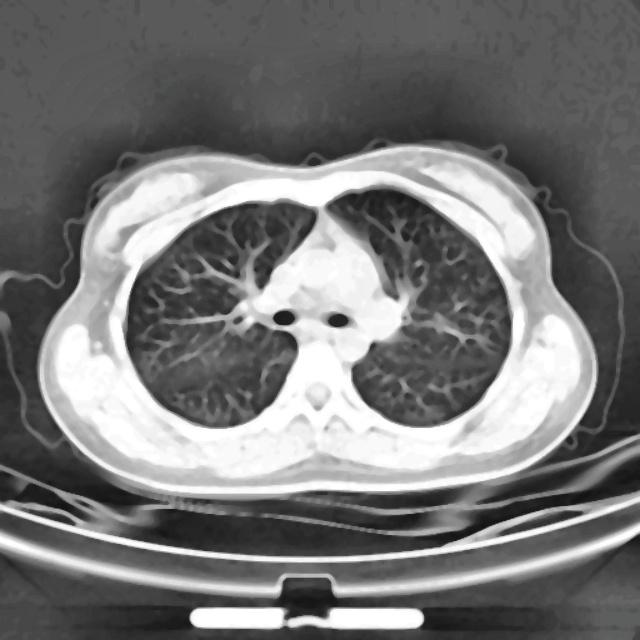covid: (35, 137, 602, 503)
